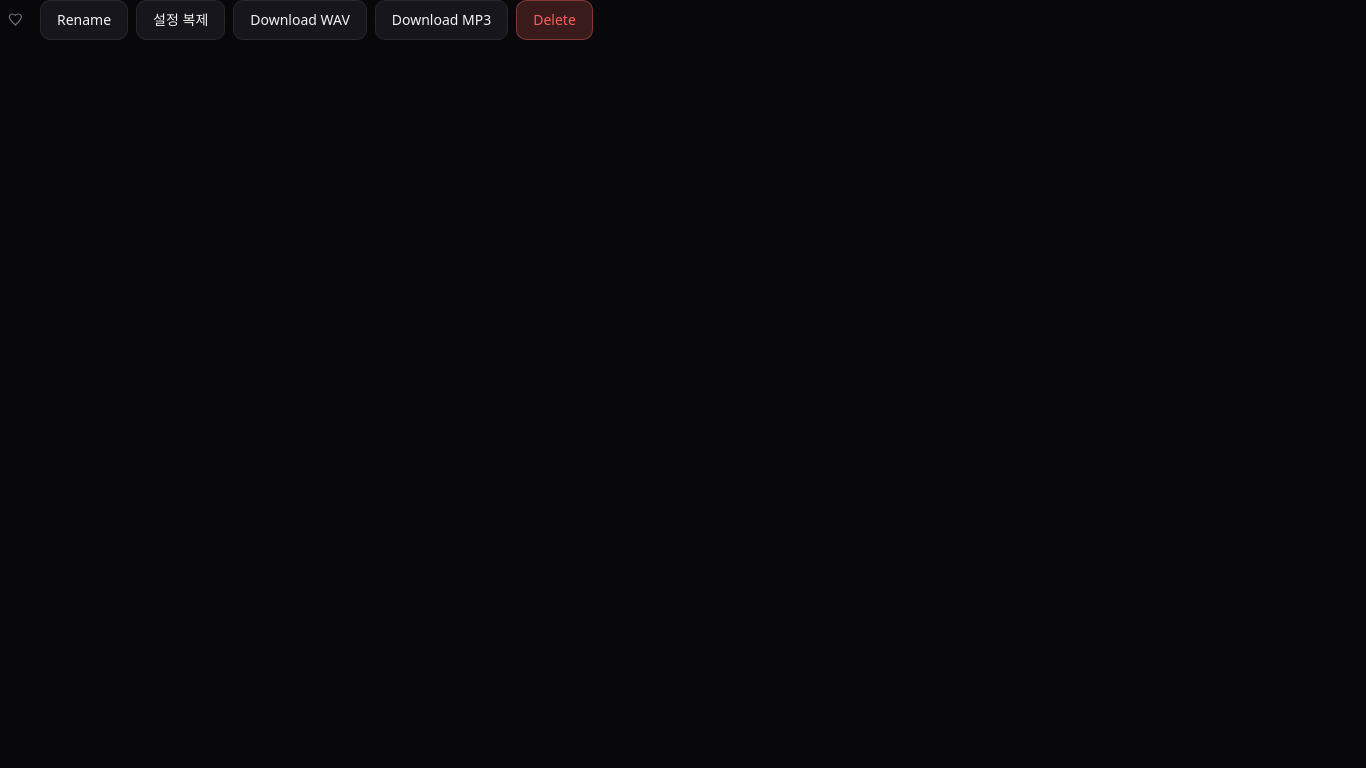
Scenario: deleting a song with derived versions › keeps the generic message for a failure it cannot explain
This screenshot has width=1366, height=768.
Click the button "Delete" at [554, 20], box 516,0 -> 593,40
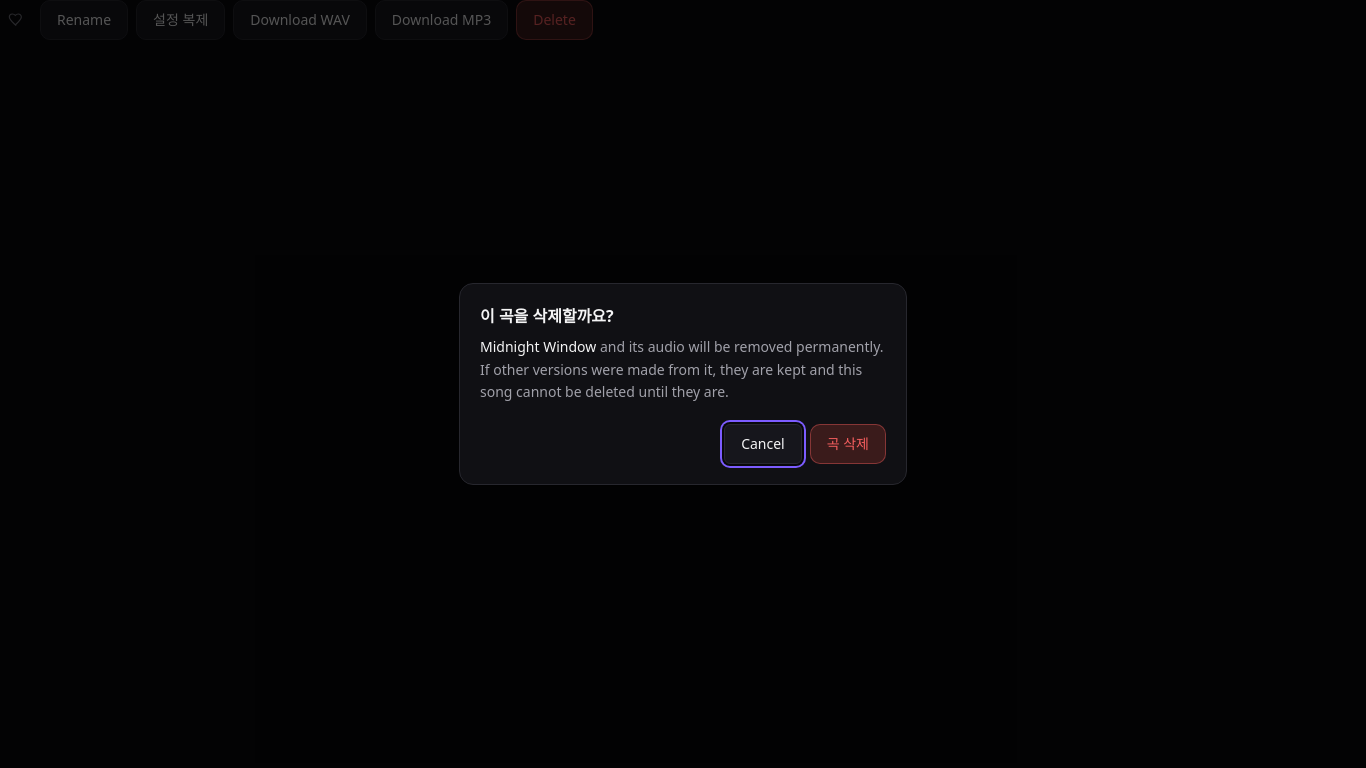
Click the button "곡 삭제" at [848, 444], box 810,424 -> 886,464
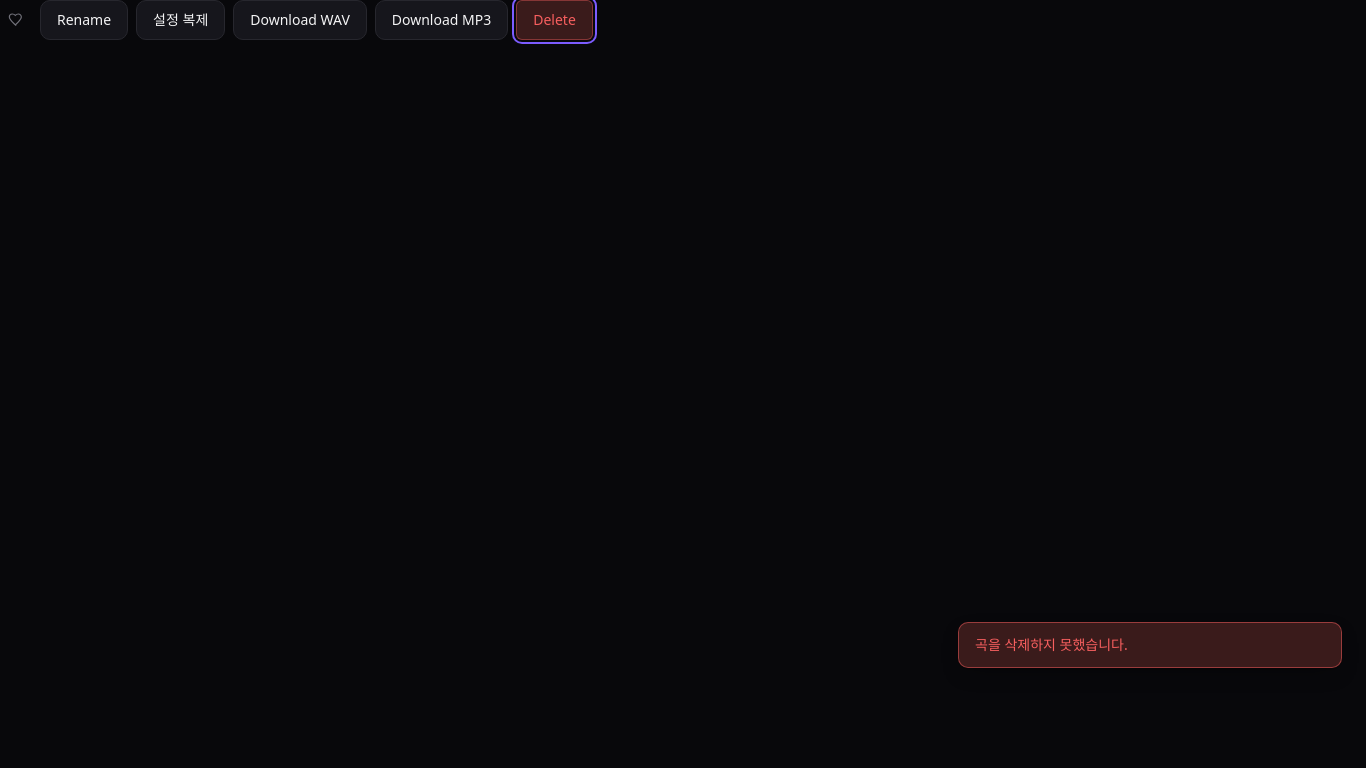
Check: the button "곡을 삭제하지 못했습니다." is shown, box 958,622 -> 1342,668
